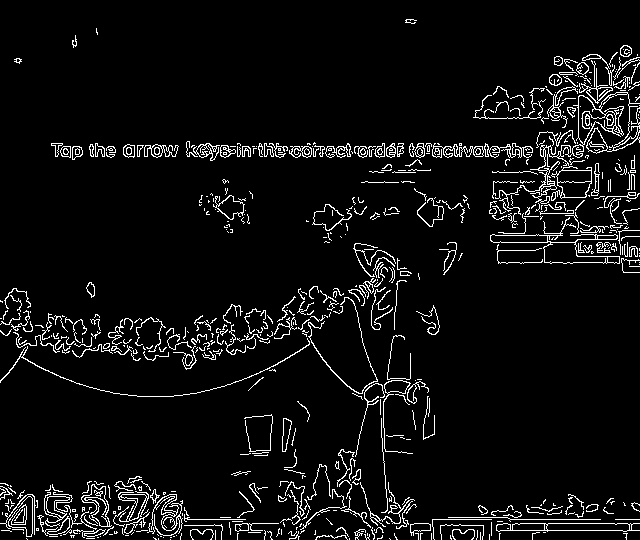left: (410, 193, 453, 234), (209, 192, 251, 229)
right: (499, 180, 544, 224), (305, 197, 348, 239)
